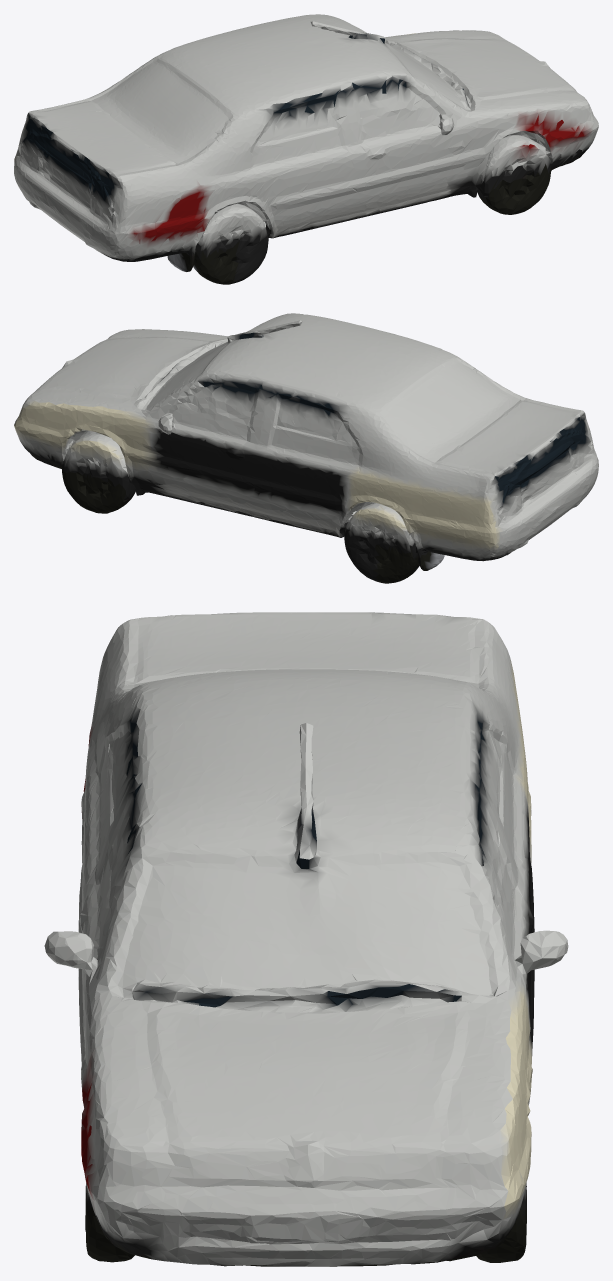
File: peugeot405.glb
The picture shows the model from 3 angles, top to bottom: view 1: azimuth 30°, elevation 25°; view 2: azimuth 150°, elevation 25°; view 3: azimuth 270°, elevation 25°; orthographic projection. The views are drawn at different scales.
Visible parts, largest first — view 1: body, wheel_3, wheel_1; view 2: body, wheel_2, wheel_0; view 3: body, wheel_3, wheel_2.
Boxes of the visible parts, bbox=[...] form: body: bbox=[14, 14, 598, 281]; wheel_3: bbox=[479, 164, 551, 214]; wheel_1: bbox=[167, 241, 239, 284]; body: bbox=[14, 313, 598, 581]; wheel_2: bbox=[62, 471, 127, 513]; wheel_0: bbox=[373, 544, 444, 583]; body: bbox=[44, 612, 568, 1266]; wheel_3: bbox=[85, 1187, 134, 1262]; wheel_2: bbox=[476, 1186, 526, 1262].
Size of the model in its own units: 445 by 162 by 200.
